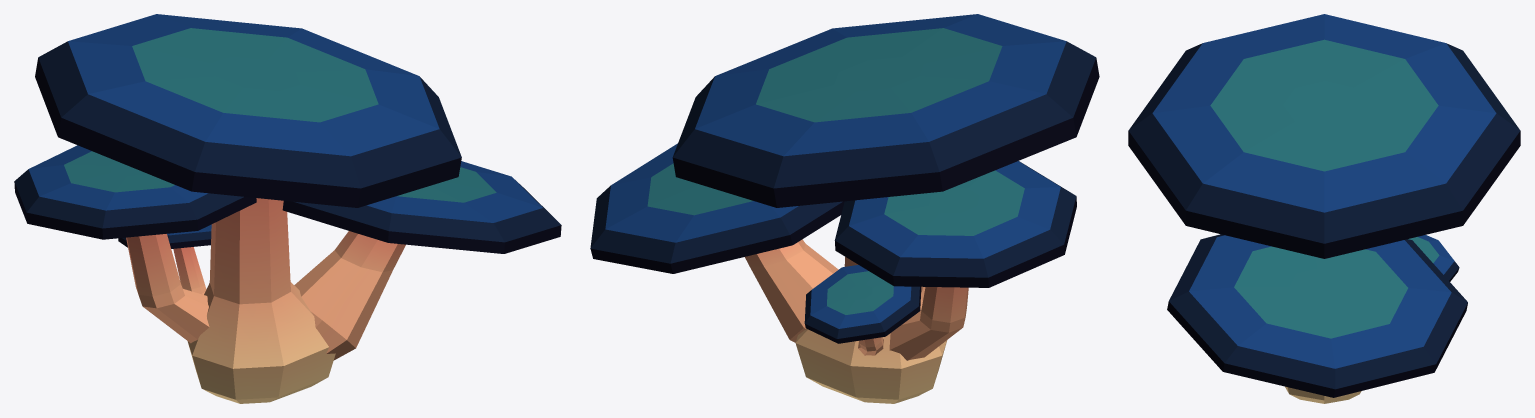
Rendered from Garden_GiantShroom01.fbx.
3 renders of one model, left to right at view 1: azimuth 30°, elevation 25°; view 2: azimuth 150°, elevation 25°; view 3: azimuth 270°, elevation 25°, orthographic. The views are drawn at different scales.
Parts seen in each view (by area): view 1: Cylinder.296; view 2: Cylinder.296; view 3: Cylinder.296.
Part boxes in pixels (<box>): Cylinder.296: <box>14,14,561,403</box>; Cylinder.296: <box>590,14,1099,403</box>; Cylinder.296: <box>1128,14,1520,403</box>.
Size of the model in its own units: 998 by 658 by 793.
